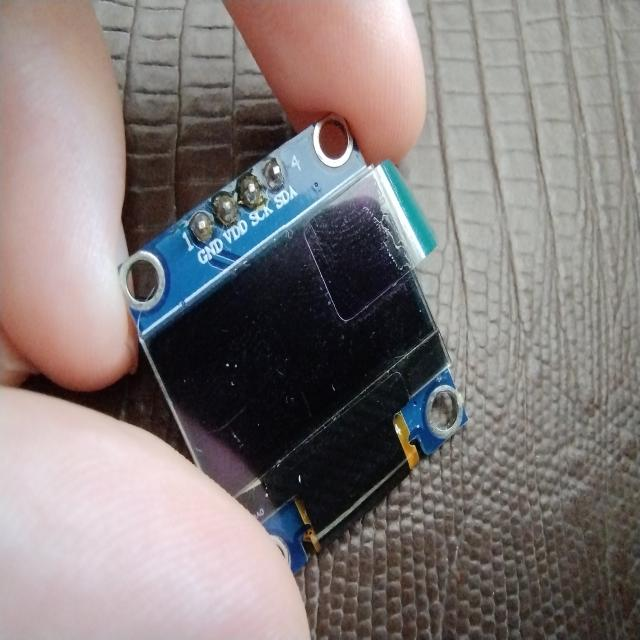oled: (103, 101, 475, 586)
